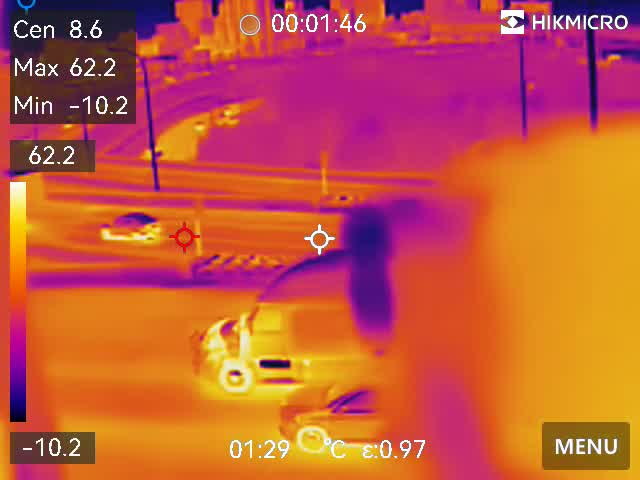heavyTruck: (185, 253, 398, 383)
vehicle: (92, 210, 166, 246)
